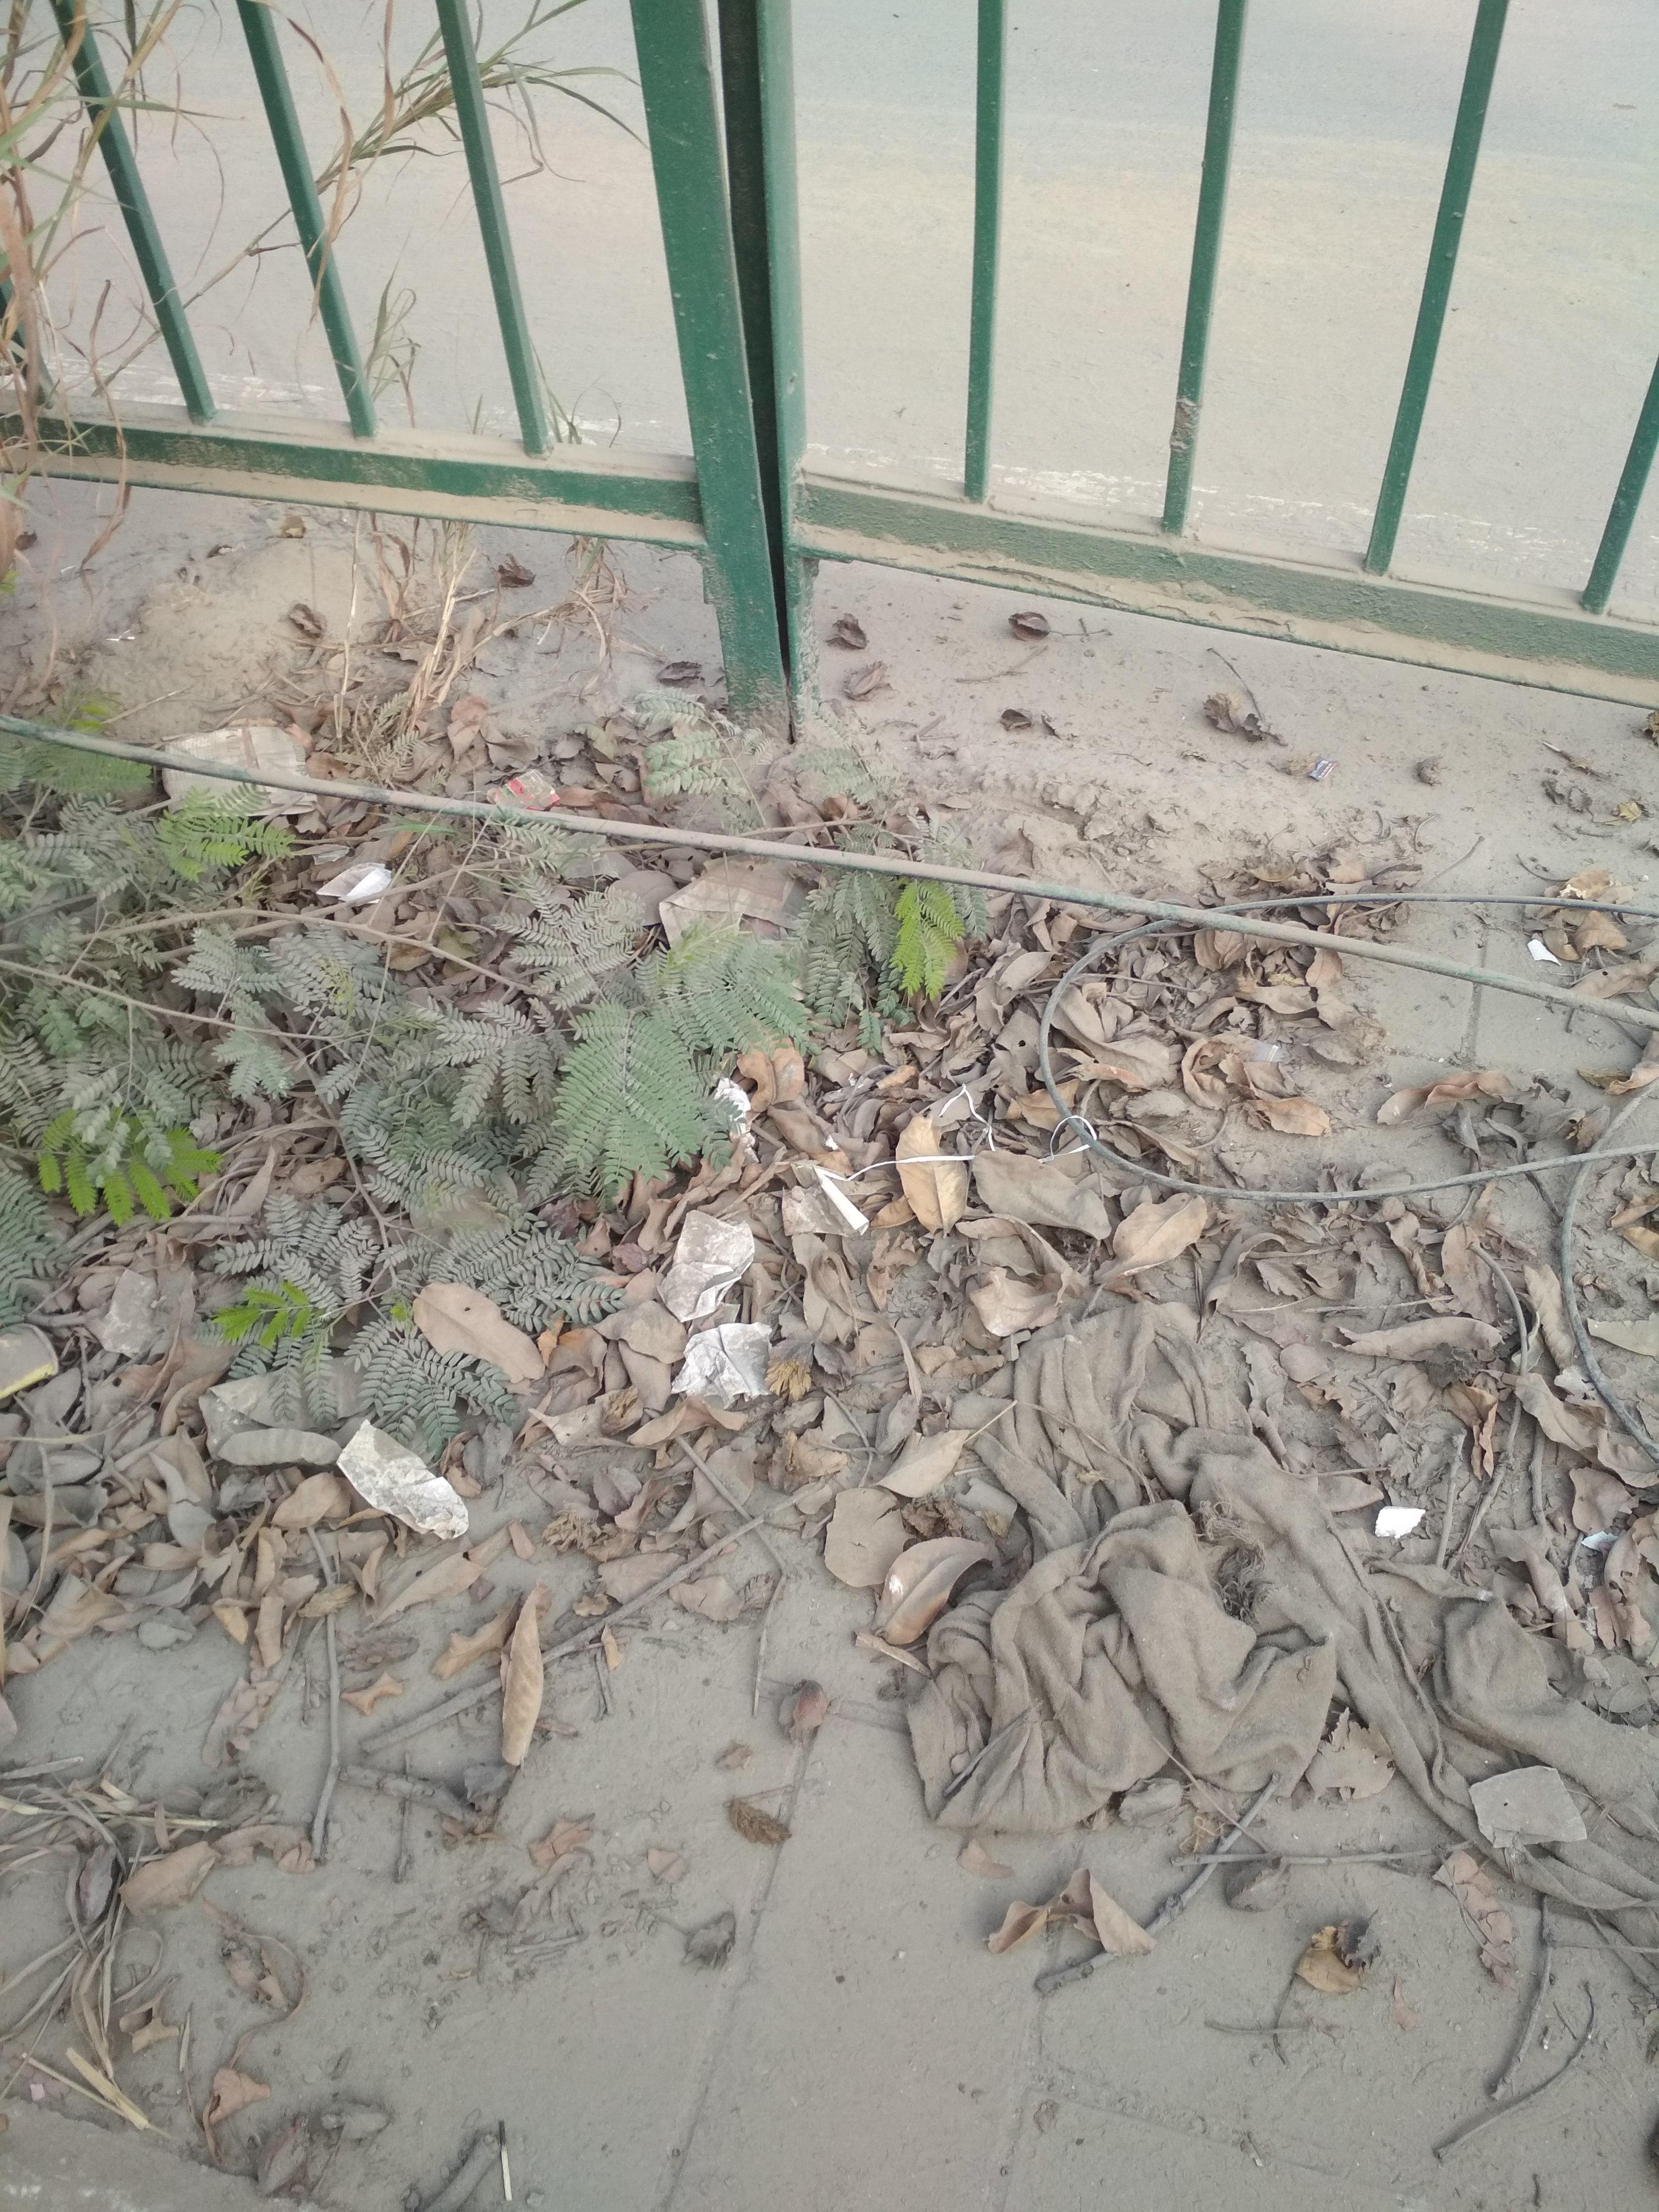trash: (132, 711, 1009, 1561)
